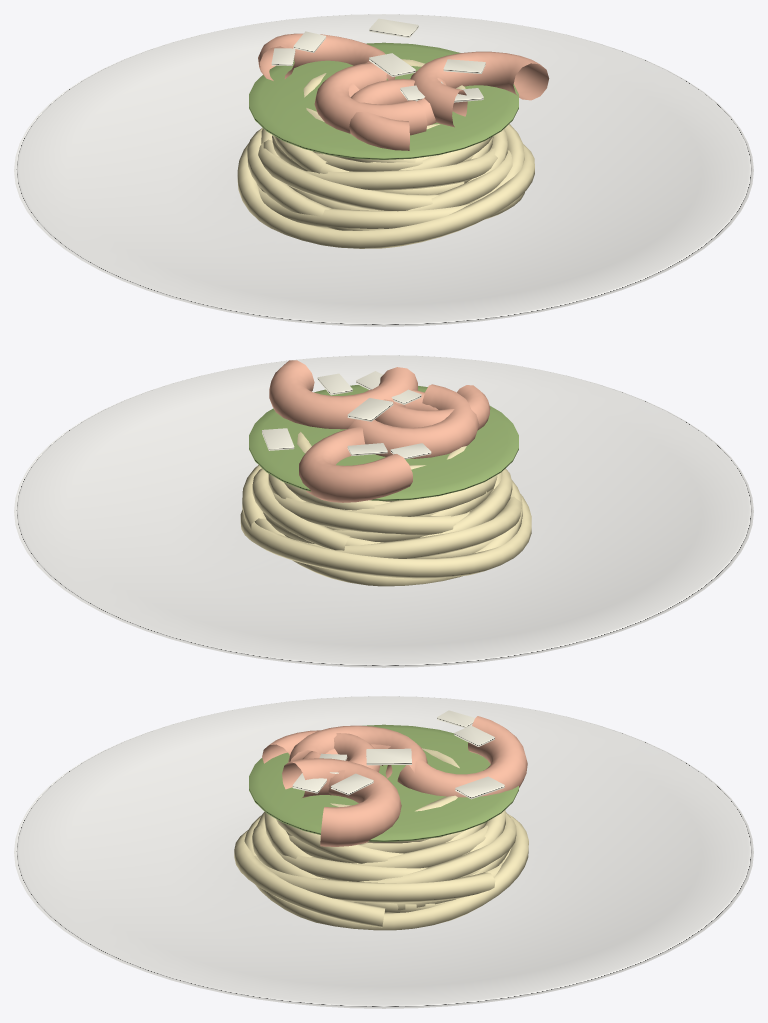
The model's file is pasta-pesto.glb.
The picture shows the model from 3 angles, top to bottom: view 1: azimuth 30°, elevation 25°; view 2: azimuth 150°, elevation 25°; view 3: azimuth 270°, elevation 25°; orthographic projection.
Bounding box in the file's own units: 0.27 × 0.0643 × 0.27.
